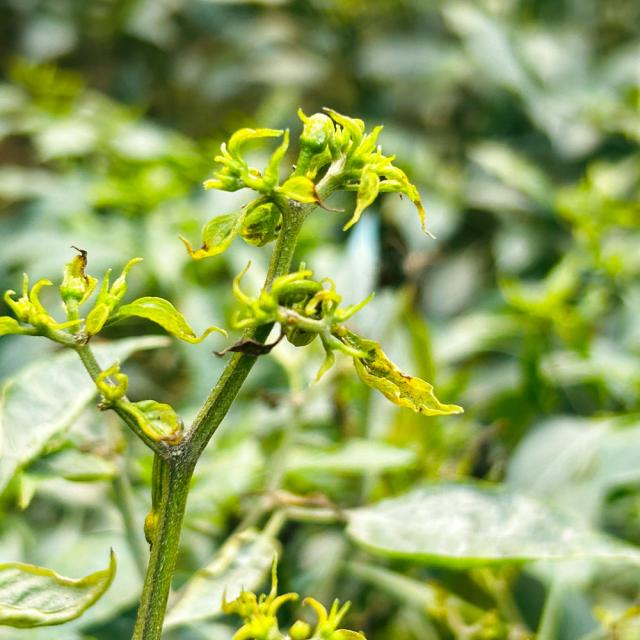Chilli_Leaf_Curl: (2, 105, 466, 637), (177, 105, 465, 419), (1, 244, 227, 450), (178, 104, 436, 260), (229, 258, 464, 418), (343, 481, 638, 568), (220, 551, 366, 639), (329, 323, 465, 417), (0, 545, 117, 629)
